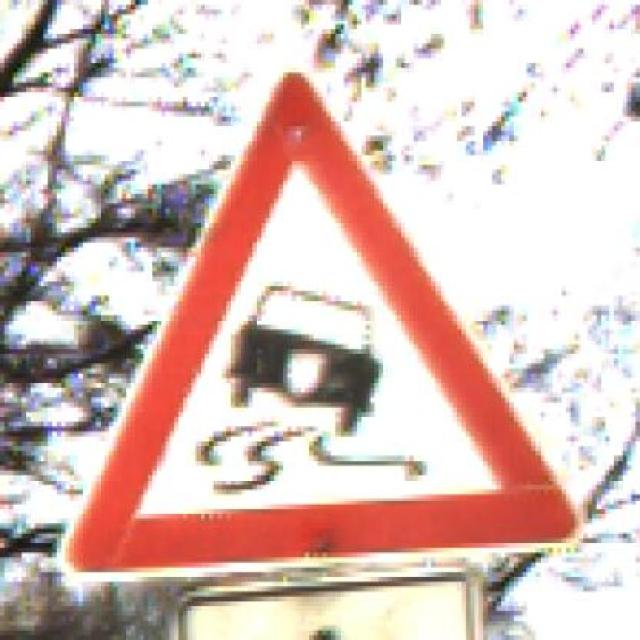Slippery Road Ahead: (48, 58, 592, 582)
